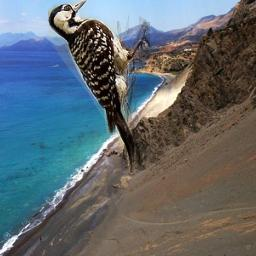Woodpecker: (48, 0, 150, 172)
